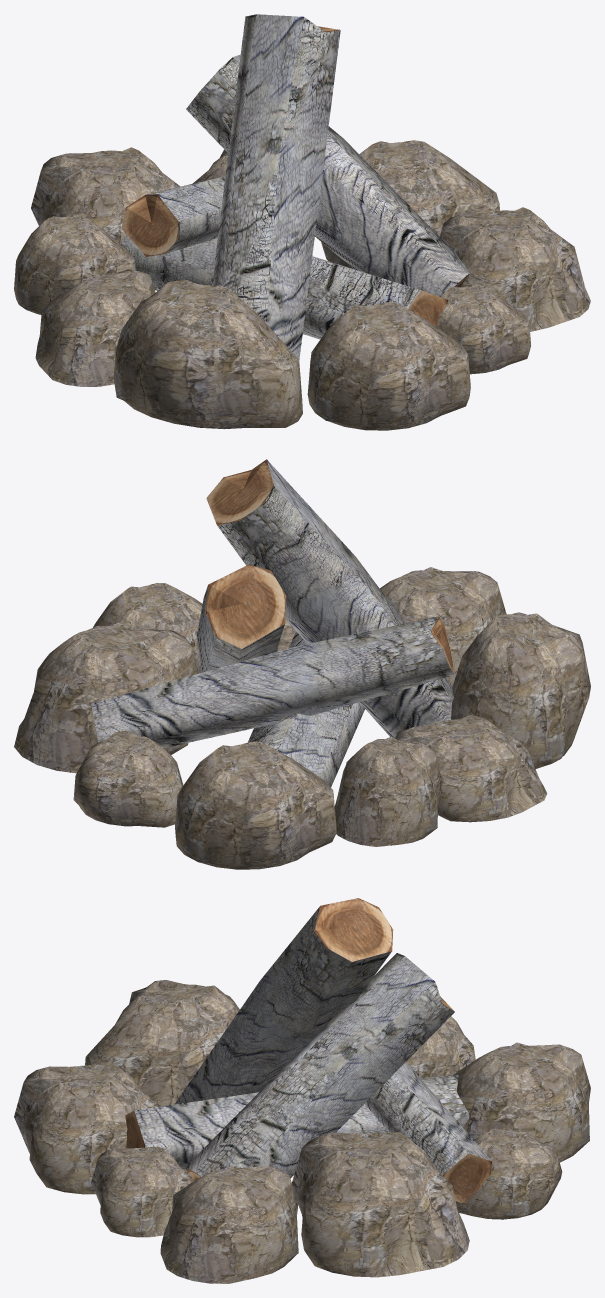
File: campfire.glb
The picture shows the model from 3 angles, top to bottom: view 1: azimuth 30°, elevation 25°; view 2: azimuth 150°, elevation 25°; view 3: azimuth 270°, elevation 25°; orthographic projection. The views are drawn at different scales.
Visible parts, largest first — view 1: Object_3, Object_2, Object_4; view 2: Object_3, Object_2, Object_4; view 3: Object_3, Object_2, Object_4.
Part boxes in pixels (x1,y1,x2,y2): Object_3: (14, 140, 590, 430); Object_2: (121, 14, 469, 359); Object_4: (121, 26, 469, 326); Object_3: (14, 567, 590, 869); Object_2: (91, 460, 454, 787); Object_4: (92, 459, 455, 741); Object_3: (14, 980, 590, 1283); Object_2: (134, 906, 491, 1178); Object_4: (125, 898, 491, 1203).
Bounding box in the file's own units: 117 × 71.17 × 125.
3 materials, 3 textured.
